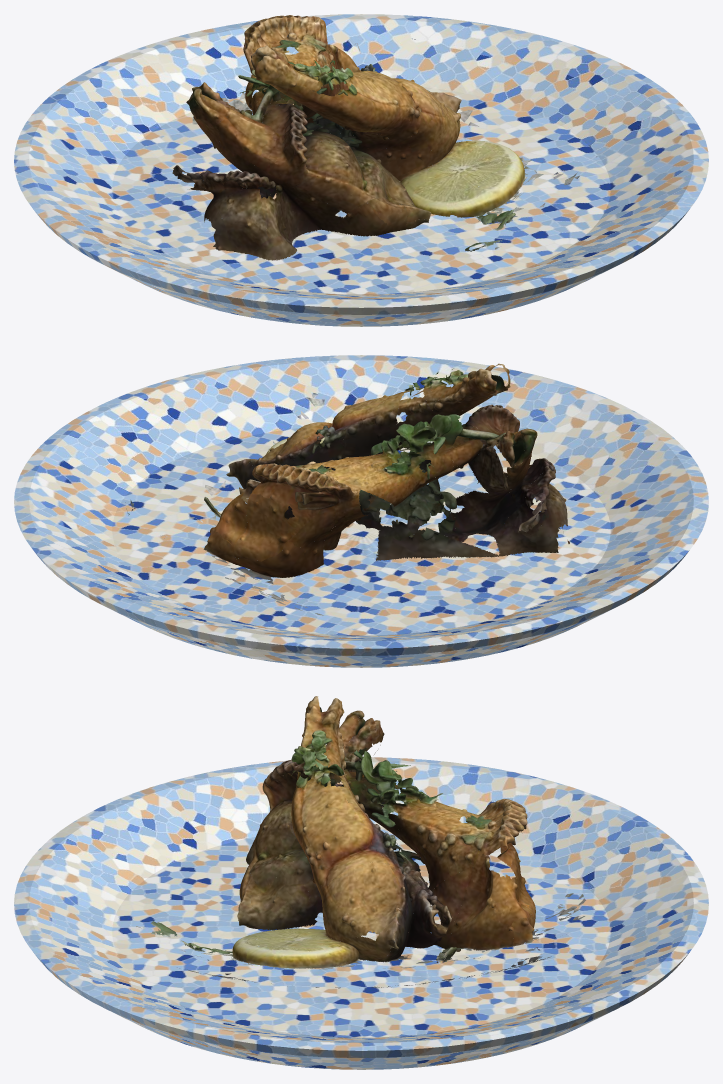
The model's file is baliq.glb.
The picture shows the model from 3 angles, top to bottom: view 1: azimuth 30°, elevation 25°; view 2: azimuth 150°, elevation 25°; view 3: azimuth 270°, elevation 25°; orthographic projection.
Visible parts, largest first — view 1: plate, tripo_node_fdb03d38-a521-4911-b6c1-decc33cea16b; view 2: plate, tripo_node_fdb03d38-a521-4911-b6c1-decc33cea16b; view 3: plate, tripo_node_fdb03d38-a521-4911-b6c1-decc33cea16b.
Boxes of the visible parts, box(x1,y1,x2,y2) form: plate: box(14, 14, 708, 326); tripo_node_fdb03d38-a521-4911-b6c1-decc33cea16b: box(172, 15, 597, 260); plate: box(14, 355, 708, 667); tripo_node_fdb03d38-a521-4911-b6c1-decc33cea16b: box(125, 363, 569, 615); plate: box(14, 757, 708, 1069); tripo_node_fdb03d38-a521-4911-b6c1-decc33cea16b: box(136, 696, 585, 988).
Size of the model in its own units: 0.92 by 0.2949 by 0.92.
Materials: 2 (2 with a texture image).
